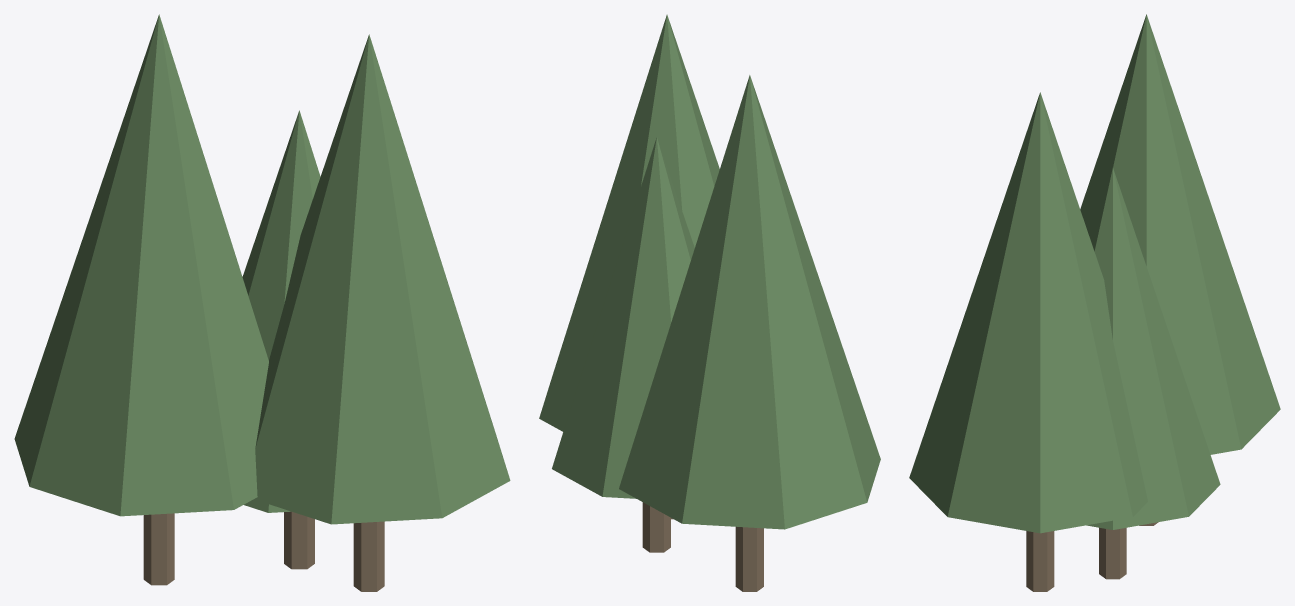
File: resource_lumber_0.glb
3 views of the same model, side by side, from view 1: azimuth 30°, elevation 25°; view 2: azimuth 150°, elevation 25°; view 3: azimuth 270°, elevation 25° (orthographic). The views are drawn at different scales.
Visible parts, largest first — view 1: resource_lumber_0; view 2: resource_lumber_0; view 3: resource_lumber_0.
Part boxes in pixels (x1,y1,x2,y2): resource_lumber_0: [14, 14, 510, 591]; resource_lumber_0: [539, 14, 880, 591]; resource_lumber_0: [909, 14, 1280, 591].
Bounding box in the file's own units: 2.73 × 3.62 × 2.41.
